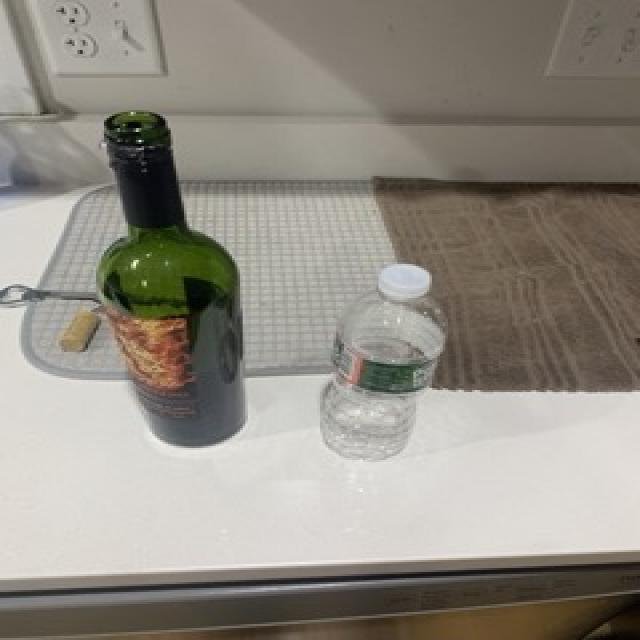water_bottle: (316, 259, 448, 467)
